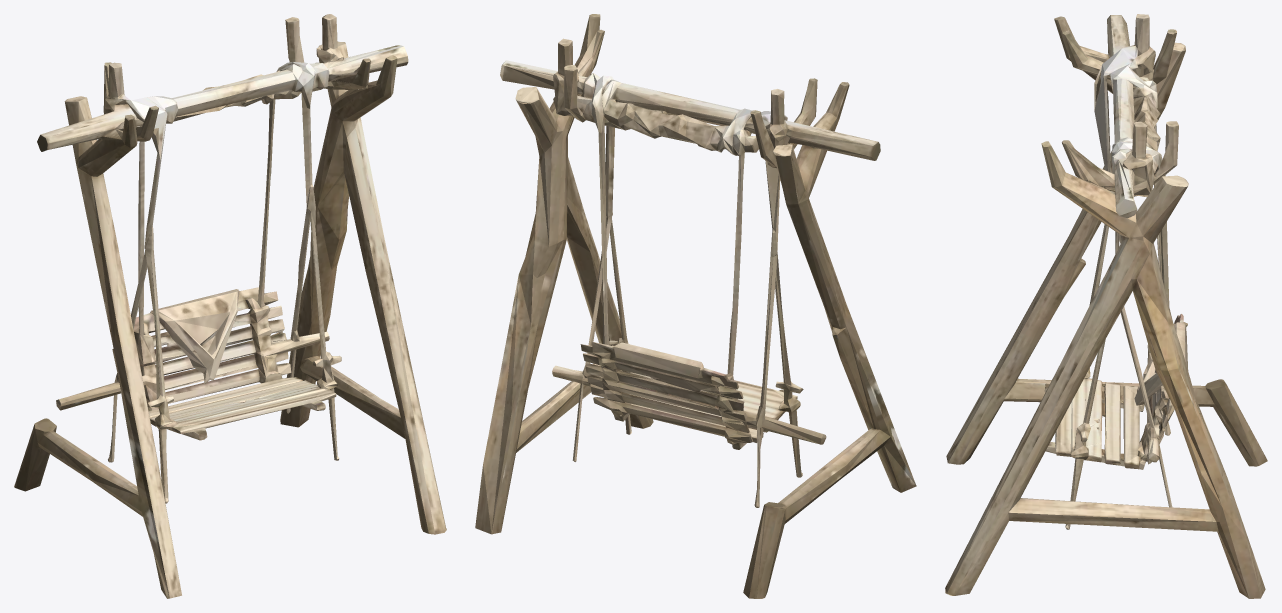
File: fen_fish_rack_01.glb
3 views of the same model, side by side, from view 1: azimuth 30°, elevation 25°; view 2: azimuth 150°, elevation 25°; view 3: azimuth 270°, elevation 25° (orthographic).
Parts seen in each view (by area): view 1: geometry_0; view 2: geometry_0; view 3: geometry_0.
Part boxes in pixels (bbox=[...]): geometry_0: bbox=[14, 14, 446, 598]; geometry_0: bbox=[475, 14, 916, 598]; geometry_0: bbox=[945, 14, 1267, 598].
Bounding box in the file's own units: 0.8435 × 0.9982 × 0.6317.
Materials: 1 (1 with a texture image).
